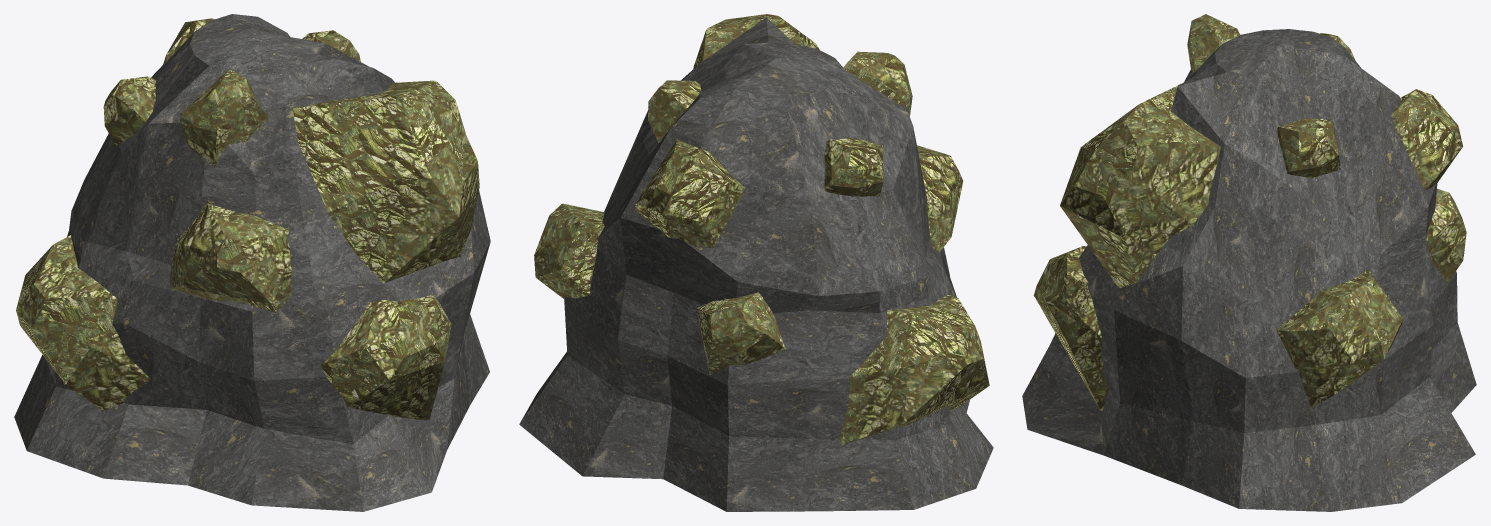
The model's file is gold_1.fbx.
3 renders of one model, left to right at view 1: azimuth 30°, elevation 25°; view 2: azimuth 150°, elevation 25°; view 3: azimuth 270°, elevation 25°, orthographic. The views are drawn at different scales.
Parts seen in each view (by area): view 1: small_ore_3_Cube.029; view 2: small_ore_3_Cube.029; view 3: small_ore_3_Cube.029.
Part boxes in pixels (<box>): small_ore_3_Cube.029: <box>14,14,490,511</box>; small_ore_3_Cube.029: <box>519,14,993,511</box>; small_ore_3_Cube.029: <box>1022,14,1476,511</box>.
Size of the model in its own units: 121 by 99.89 by 113.
Materials: 2 (2 with a texture image).
